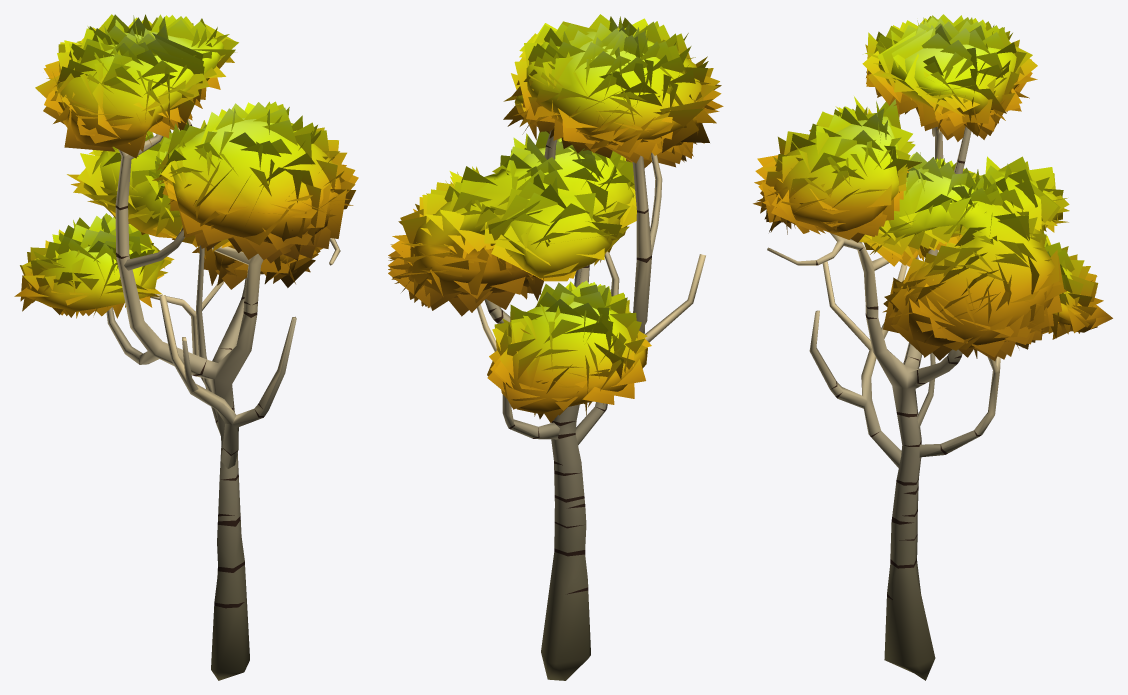
Rendered from Forest_Tree_9C.fbx.
The picture shows the model from 3 angles, left to right: view 1: azimuth 30°, elevation 25°; view 2: azimuth 150°, elevation 25°; view 3: azimuth 270°, elevation 25°; orthographic projection. The views are drawn at different scales.
Parts seen in each view (by area): view 1: Forest_Tree_9C; view 2: Forest_Tree_9C; view 3: Forest_Tree_9C.
Part boxes in pixels (box(x1,y1,x2,y2)): Forest_Tree_9C: box(14, 14, 358, 680); Forest_Tree_9C: box(388, 14, 723, 680); Forest_Tree_9C: box(753, 14, 1112, 680).
Bounding box in the file's own units: 403 × 884 × 465.
